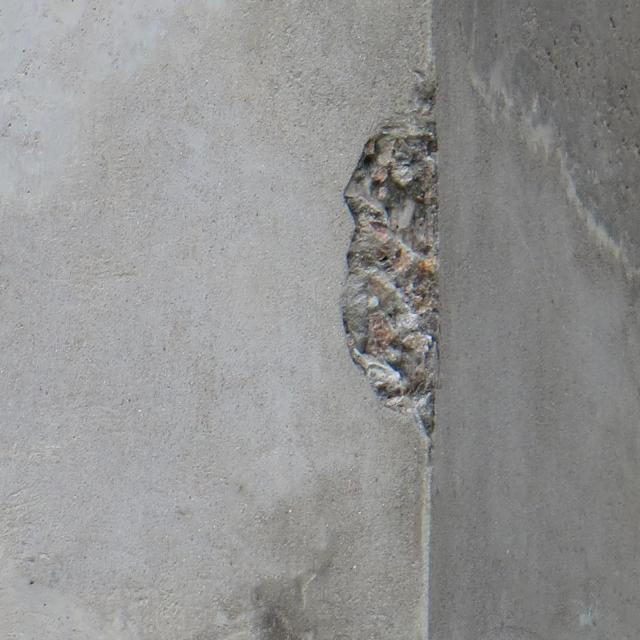concrete spalling: (342, 66, 440, 443)
